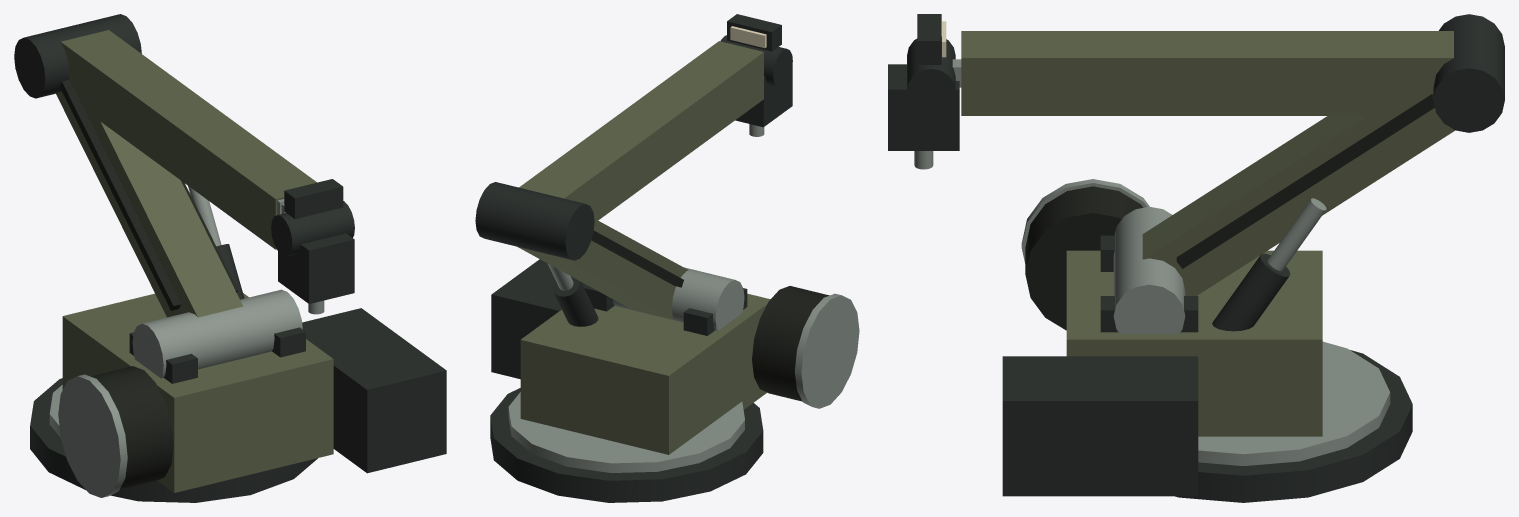
File: rig-preview.glb
The picture shows the model from 3 angles, left to right: view 1: azimuth 30°, elevation 25°; view 2: azimuth 150°, elevation 25°; view 3: azimuth 270°, elevation 25°; orthographic projection. The views are drawn at different scales.
Visible parts, largest first — view 1: U25_surface_12, U25_surface_15, U25_surface_08, U25_surface_10, U25_surface_00, U25_surface_09, U25_surface_16, U25_surface_17, U25_surface_07, U25_surface_11, U25_surface_13, U25_surface_14; view 2: U25_surface_12, U25_surface_08, U25_surface_15, U25_surface_16, U25_surface_07, U25_surface_10, U25_surface_17, U25_surface_00, U25_surface_09, U25_surface_13, U25_surface_11, U25_surface_02; view 3: U25_surface_08, U25_surface_15, U25_surface_12, U25_surface_10, U25_surface_16, U25_surface_00, U25_surface_17, U25_surface_09, U25_surface_07, U25_surface_13, U25_surface_11, U25_surface_14.
Part boxes in pixels (bbox=[...]): U25_surface_12: bbox=[62, 293, 333, 492]; U25_surface_15: bbox=[30, 308, 446, 502]; U25_surface_08: bbox=[61, 30, 316, 249]; U25_surface_10: bbox=[56, 92, 243, 317]; U25_surface_00: bbox=[271, 179, 354, 303]; U25_surface_09: bbox=[132, 289, 302, 378]; U25_surface_16: bbox=[49, 374, 127, 497]; U25_surface_17: bbox=[90, 366, 173, 490]; U25_surface_07: bbox=[14, 14, 141, 98]; U25_surface_11: bbox=[59, 79, 237, 310]; U25_surface_13: bbox=[129, 244, 305, 383]; U25_surface_14: bbox=[188, 186, 221, 246]; U25_surface_12: bbox=[520, 293, 770, 454]; U25_surface_08: bbox=[519, 41, 763, 222]; U25_surface_15: bbox=[490, 259, 763, 502]; U25_surface_16: bbox=[508, 293, 859, 472]; U25_surface_07: bbox=[475, 182, 594, 260]; U25_surface_10: bbox=[518, 220, 688, 319]; U25_surface_17: bbox=[752, 286, 829, 401]; U25_surface_00: bbox=[720, 14, 792, 127]; U25_surface_09: bbox=[586, 267, 744, 330]; U25_surface_13: bbox=[552, 276, 747, 335]; U25_surface_11: bbox=[591, 230, 683, 287]; U25_surface_02: bbox=[730, 26, 766, 48]; U25_surface_08: bbox=[961, 31, 1453, 115]; U25_surface_15: bbox=[1002, 350, 1412, 502]; U25_surface_12: bbox=[1066, 250, 1322, 436]; U25_surface_10: bbox=[1142, 116, 1454, 295]; U25_surface_16: bbox=[1021, 179, 1390, 465]; U25_surface_00: bbox=[888, 14, 959, 150]; U25_surface_17: bbox=[1025, 186, 1143, 330]; U25_surface_09: bbox=[1113, 206, 1185, 333]; U25_surface_07: bbox=[1433, 14, 1504, 132]; U25_surface_13: bbox=[1100, 235, 1290, 332]; U25_surface_11: bbox=[1176, 94, 1434, 268]; U25_surface_14: bbox=[1267, 198, 1326, 271].
Bounding box in the file's own units: 1.12 × 1.19 × 1.64.
